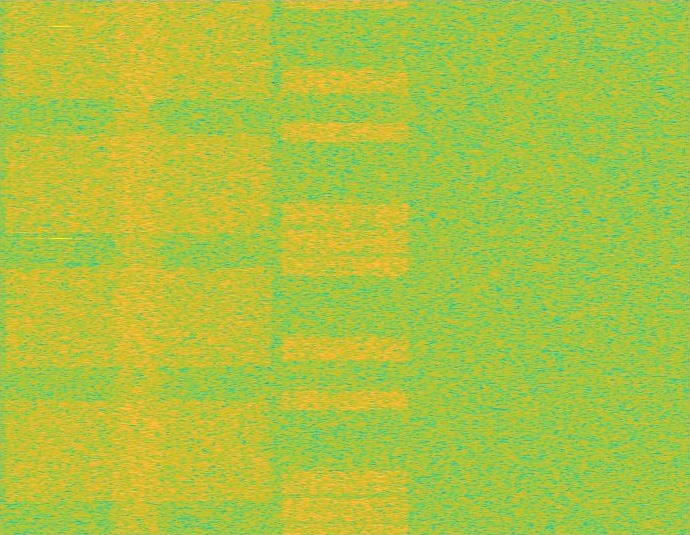5G: (0, 0, 276, 534)
DSSS: (107, 0, 169, 534)
LTE: (276, 0, 414, 534)
Radar: (54, 0, 68, 534)
